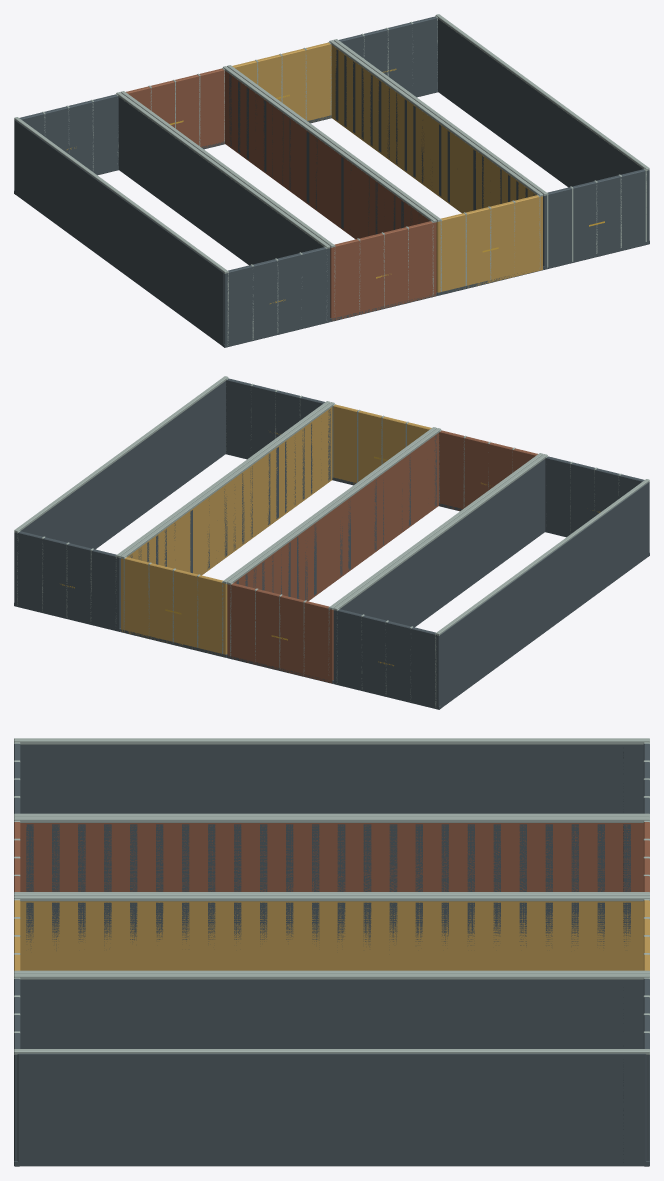
File: container_stack_shell.glb
The picture shows the model from 3 angles, top to bottom: view 1: azimuth 30°, elevation 25°; view 2: azimuth 150°, elevation 25°; view 3: azimuth 270°, elevation 25°; orthographic projection. The views are drawn at different scales.
Visible parts, largest first — view 1: Keep_Mesh; view 2: Keep_Mesh; view 3: Keep_Mesh.
Boxes of the visible parts, box(x1,y1,x2,y2) form: Keep_Mesh: box(14, 14, 649, 347); Keep_Mesh: box(14, 376, 649, 709); Keep_Mesh: box(14, 738, 649, 1166).
Bounding box in the file's own units: 14 × 2.4 × 12.
